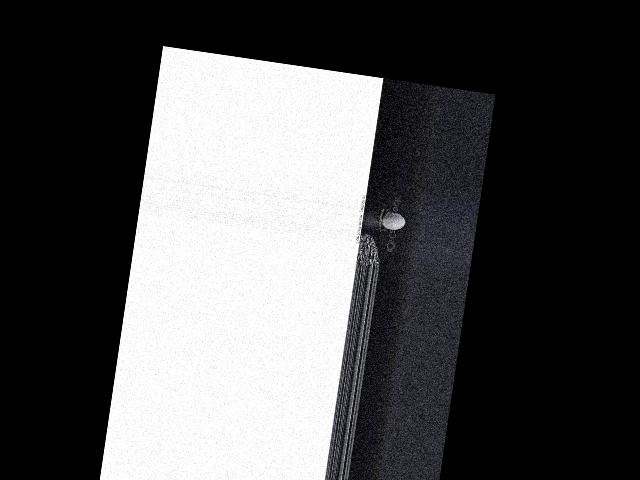egg: (380, 210, 406, 231)
